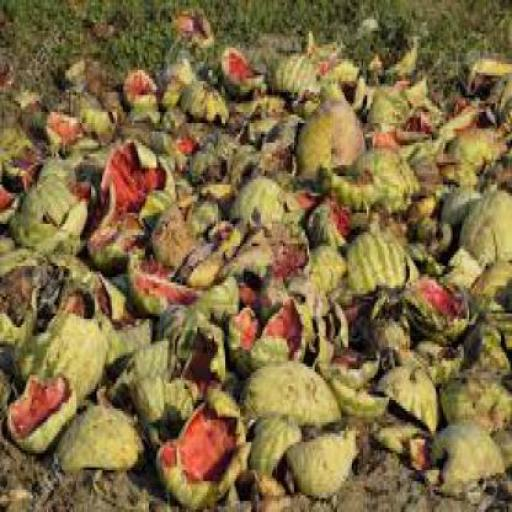biodegradable: (151, 380, 249, 510), (4, 300, 101, 414), (404, 416, 501, 496), (52, 394, 151, 470), (236, 364, 338, 434), (100, 330, 168, 434), (97, 137, 173, 227), (227, 288, 307, 369), (219, 224, 283, 325), (2, 364, 77, 450), (369, 349, 441, 437), (292, 89, 362, 179), (392, 257, 472, 334), (0, 240, 57, 347), (281, 425, 361, 501), (11, 176, 86, 252), (435, 366, 510, 436), (120, 252, 206, 313), (46, 246, 121, 314), (460, 184, 510, 280), (343, 224, 404, 302), (227, 170, 300, 232), (348, 142, 414, 208), (433, 123, 501, 182), (102, 308, 152, 386), (187, 123, 259, 176), (374, 416, 428, 486), (182, 216, 236, 286), (292, 238, 346, 308), (231, 112, 296, 170), (154, 369, 208, 437), (472, 257, 510, 353), (184, 268, 242, 330), (326, 364, 380, 422), (428, 92, 486, 146), (364, 305, 414, 367), (149, 199, 199, 260), (268, 47, 319, 104), (88, 212, 142, 263), (311, 154, 375, 196), (465, 56, 511, 114), (331, 414, 373, 476), (0, 122, 38, 188), (216, 42, 263, 95), (71, 148, 114, 204), (264, 50, 314, 98), (301, 193, 346, 246), (0, 232, 49, 278), (484, 64, 510, 145), (320, 350, 380, 384), (178, 78, 226, 120), (71, 92, 111, 140), (404, 140, 438, 196), (437, 246, 475, 294), (37, 151, 82, 190), (178, 185, 222, 224), (42, 109, 86, 148), (176, 2, 208, 50), (394, 100, 432, 140), (364, 81, 402, 121), (126, 92, 164, 132), (120, 64, 158, 103), (235, 92, 291, 118), (154, 299, 184, 339), (387, 44, 417, 82), (172, 120, 205, 154), (0, 81, 22, 132), (401, 68, 430, 103), (302, 28, 334, 58), (34, 87, 67, 115), (322, 56, 354, 84), (493, 419, 510, 465), (13, 96, 39, 126), (0, 182, 17, 224), (63, 53, 80, 95), (348, 72, 363, 104), (363, 53, 377, 73)
